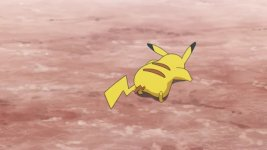pikachu: (104, 36, 199, 118)
